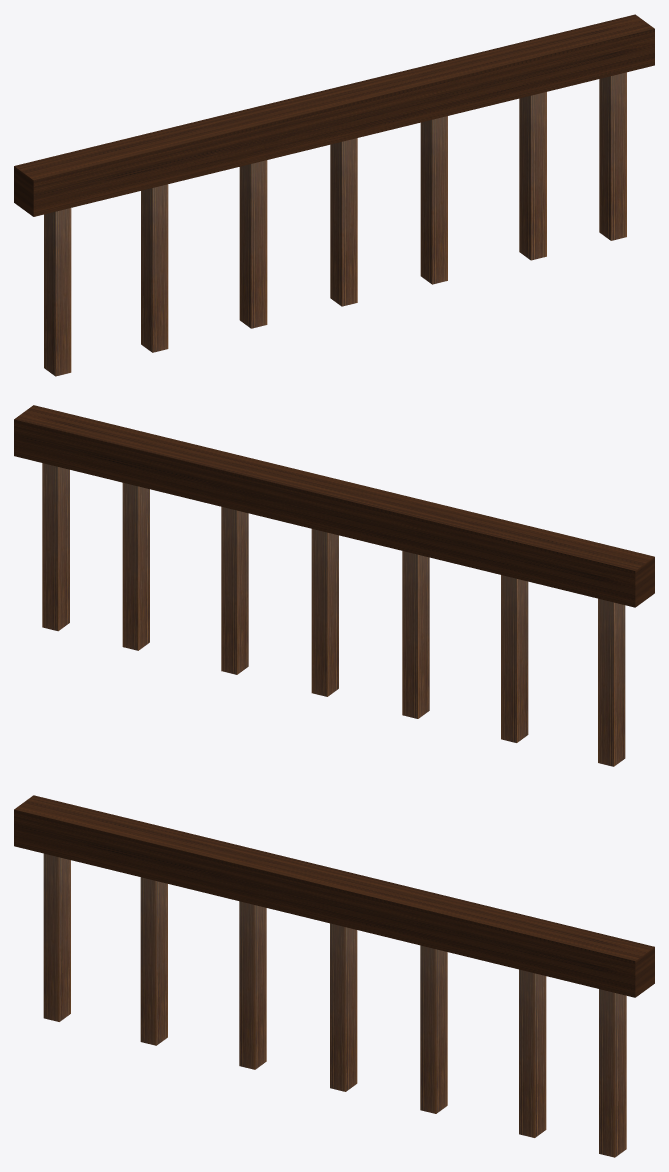
The model's file is stair fence.FBX.
The picture shows the model from 3 angles, top to bottom: view 1: azimuth 30°, elevation 25°; view 2: azimuth 150°, elevation 25°; view 3: azimuth 330°, elevation 25°; orthographic projection.
Parts seen in each view (by area): view 1: stair fence; view 2: stair fence; view 3: stair fence.
Boxes of the visible parts, x1,y1,x2,y2 form: stair fence: (14,14,654,376); stair fence: (14,405,654,766); stair fence: (14,795,654,1157).
Size of the model in its own units: 25.25 by 7.97 by 1.38.
